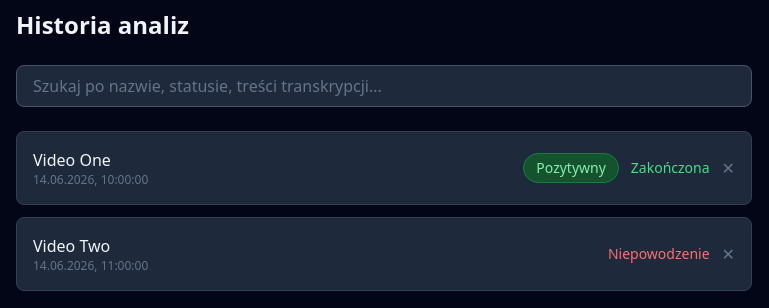
Test: HistoryPage › shows a message when the search has no matches
Expected: the text "Video One" is shown, left=33, top=149, right=111, bottom=171
Type "nonexistent" into the field with placeholder "Szukaj po nazwie, statusie, treści transkrypcji..." at (384, 86), box left=16, top=65, right=752, bottom=107
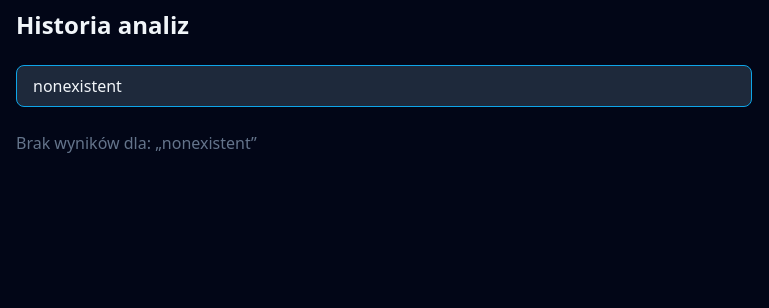
Expected: the text "Brak wyników dla: „nonexistent”" is shown, left=16, top=132, right=257, bottom=154
